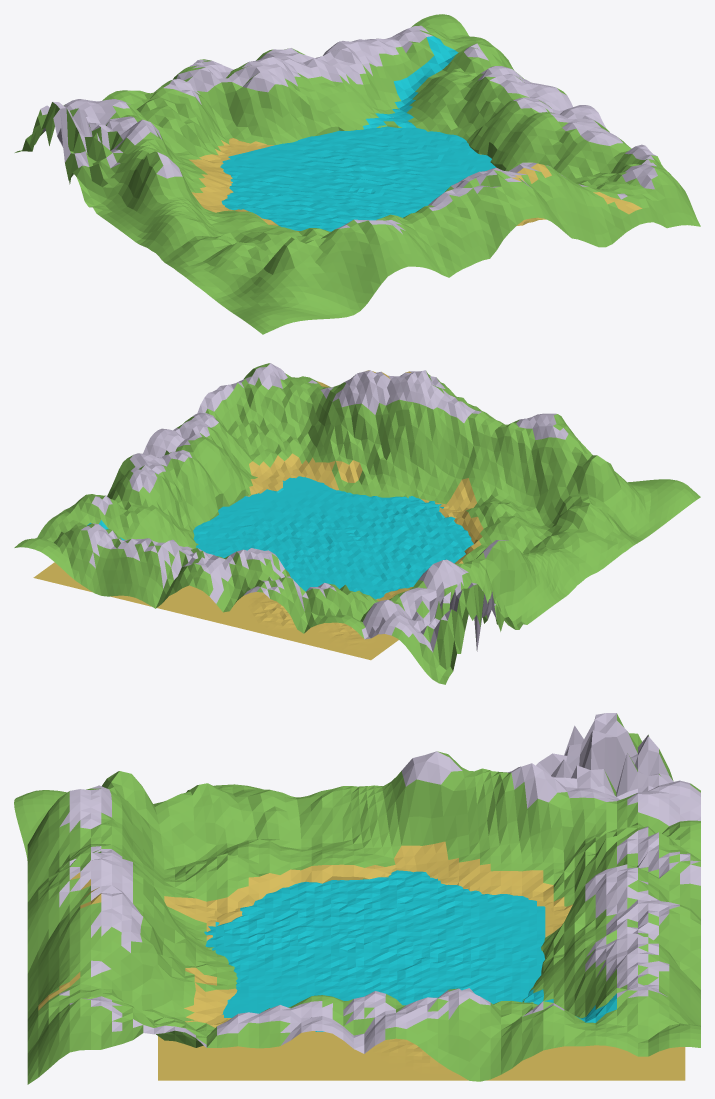
The model's file is land.dae.
3 views of the same model, one above another, from view 1: azimuth 30°, elevation 25°; view 2: azimuth 150°, elevation 25°; view 3: azimuth 270°, elevation 25° (orthographic). The views are drawn at different scales.
Parts seen in each view (by area): view 1: Plane; view 2: Plane; view 3: Plane.
Part boxes in pixels (left/top/right/bottom): Plane: left=15, top=14, right=700, bottom=334; Plane: left=14, top=363, right=700, bottom=684; Plane: left=14, top=713, right=700, bottom=1084.
Bounding box in the file's own units: 1963 × 1961 × 433.
